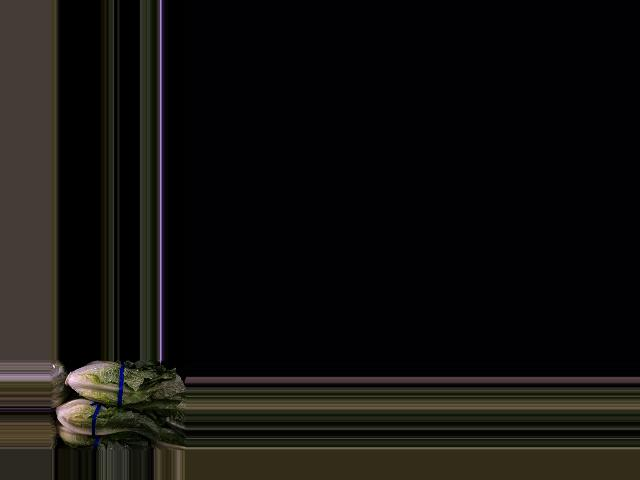lettuce: (54, 398, 162, 444)
